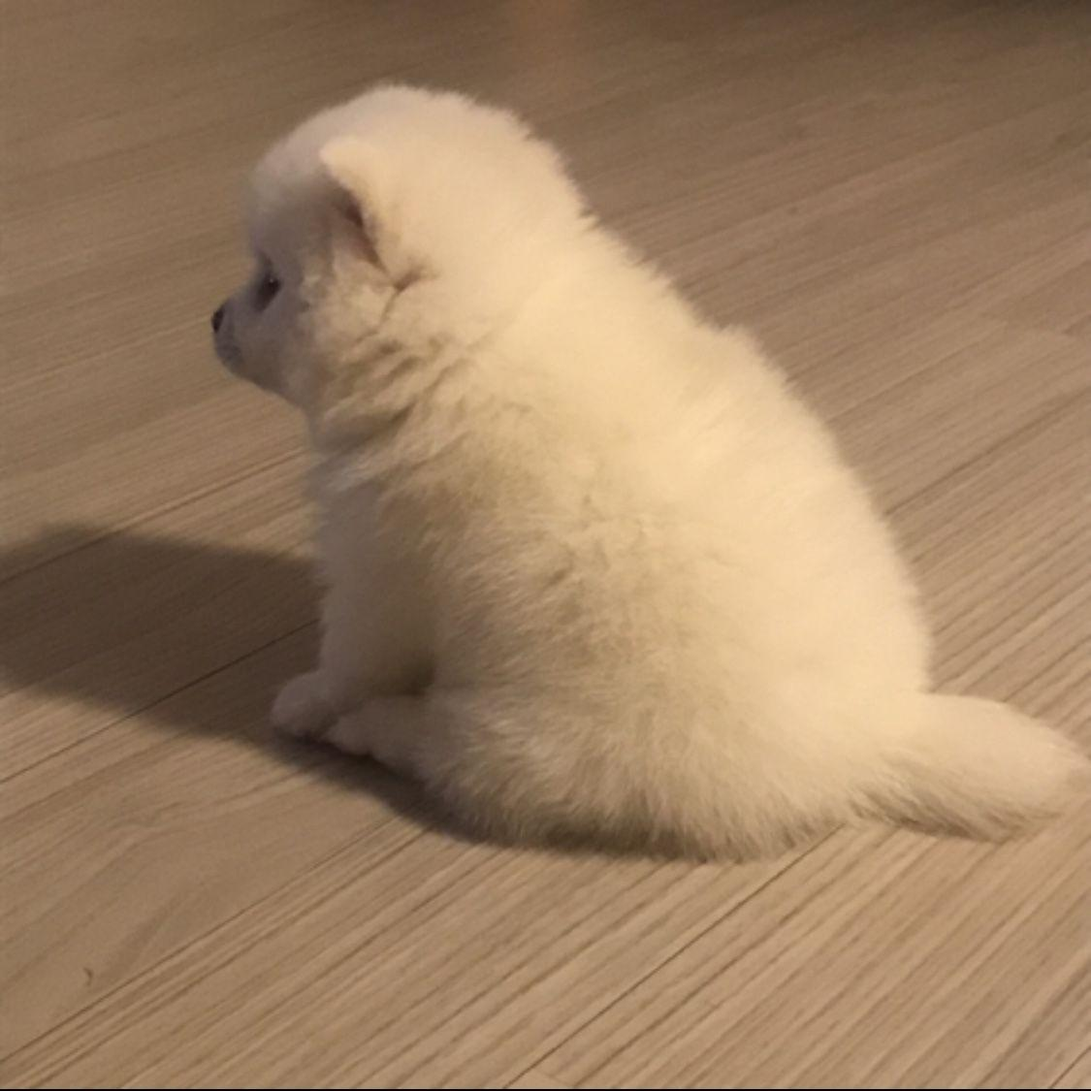puppy-dog: (203, 66, 1091, 861)
